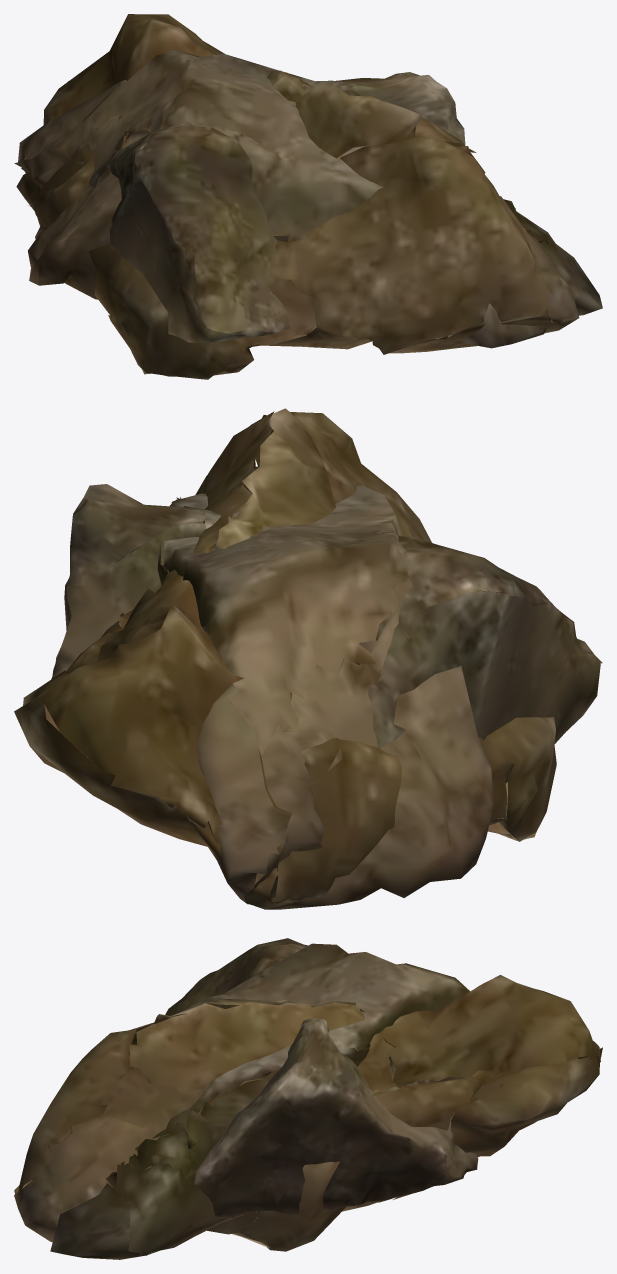
The model's file is moss-rocks.glb.
3 views of the same model, one above another, from view 1: azimuth 30°, elevation 25°; view 2: azimuth 150°, elevation 25°; view 3: azimuth 270°, elevation 25° (orthographic). The views are drawn at different scales.
Visible parts, largest first — view 1: rock_moss_set_01_rock01, rock_moss_set_01_rock02, rock_moss_set_01_rock03; view 2: rock_moss_set_01_rock02, rock_moss_set_01_rock01, rock_moss_set_01_rock03; view 3: rock_moss_set_01_rock01, rock_moss_set_01_rock03, rock_moss_set_01_rock02.
Part boxes in pixels (x1,y1,x2,y2): rock_moss_set_01_rock01: (16,14,579,379); rock_moss_set_01_rock02: (14,50,602,348); rock_moss_set_01_rock03: (89,72,465,343); rock_moss_set_01_rock02: (145,483,493,909); rock_moss_set_01_rock01: (14,408,556,904); rock_moss_set_01_rock03: (51,484,602,822); rock_moss_set_01_rock01: (14,975,602,1251); rock_moss_set_01_rock03: (165,938,478,1218); rock_moss_set_01_rock02: (32,943,578,1259).
Bounding box in the file's own units: 2.65 × 1.48 × 3.39.
Materials: 1 (1 with a texture image).
